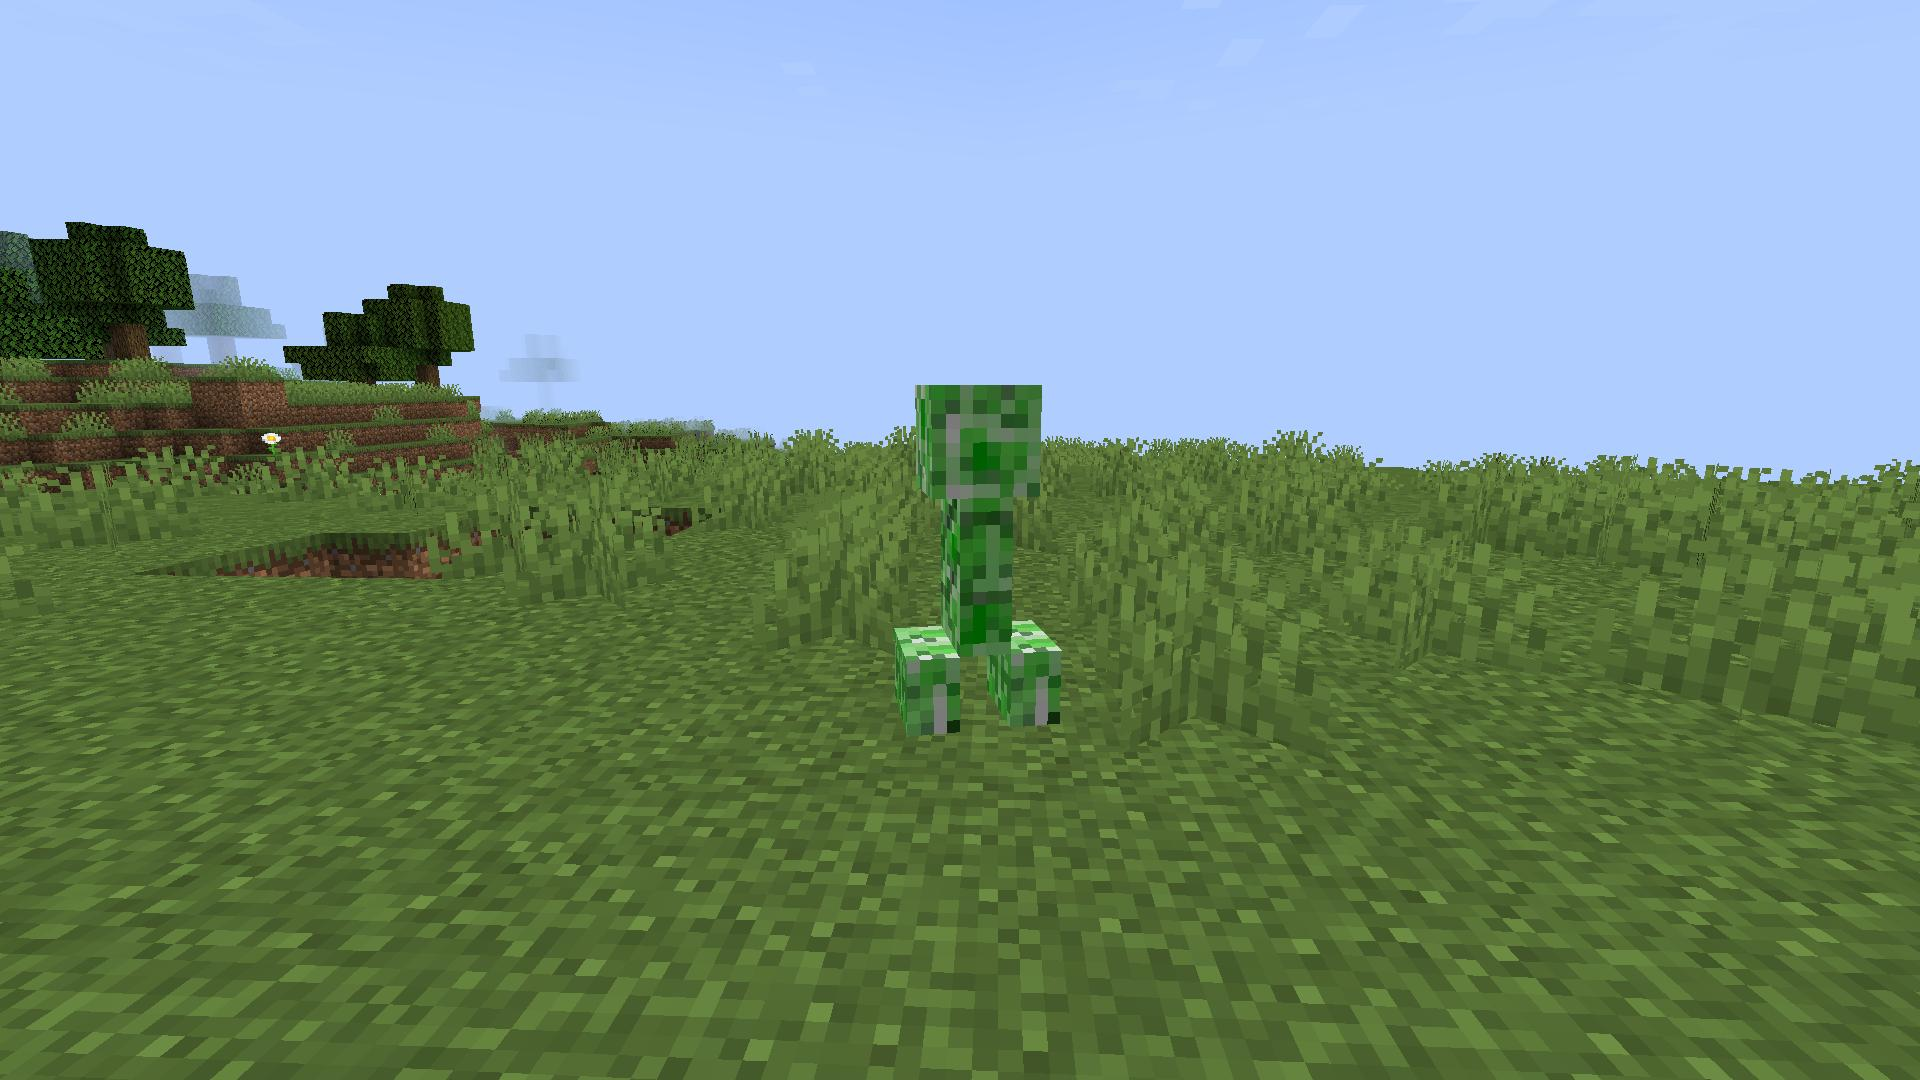creeper: (882, 373, 1073, 758)
